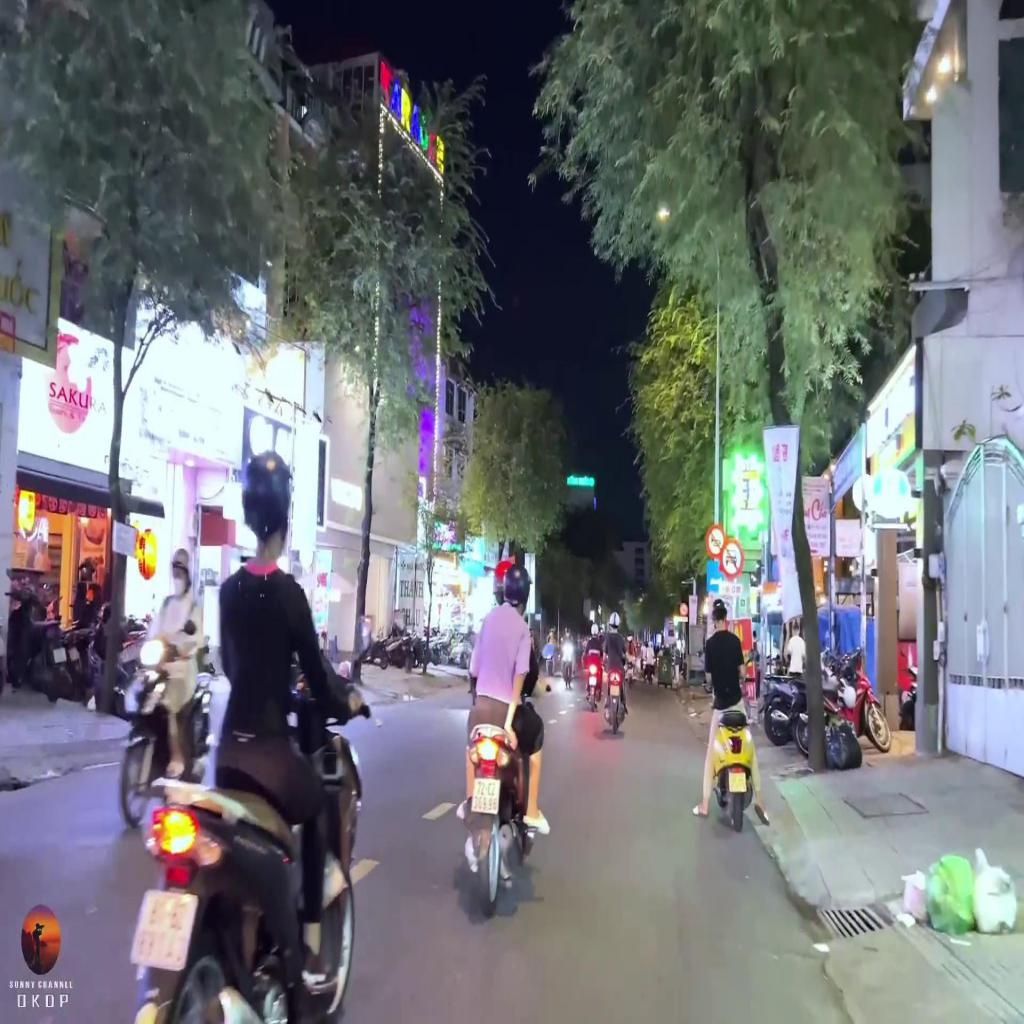cam_o_to: (719, 538, 744, 580), (679, 602, 688, 615)
cam_su_dung_coi: (704, 524, 726, 560)
khac: (719, 582, 742, 596)
